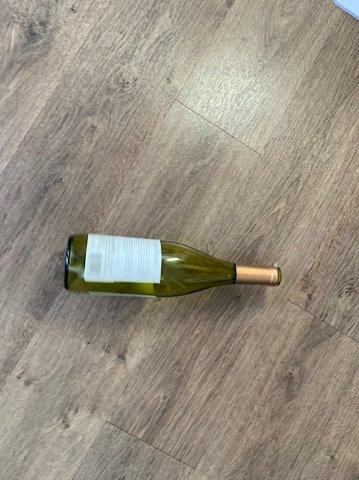botolkaca: (66, 234, 283, 298)
